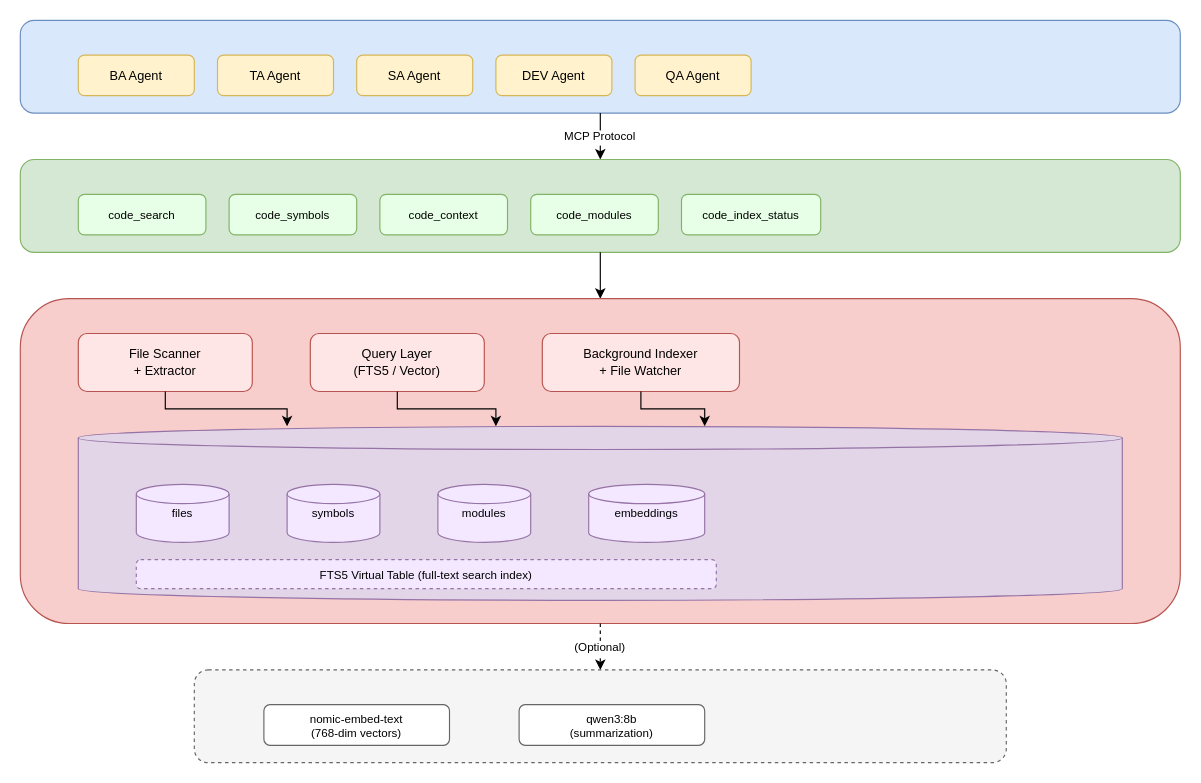
This 1201x783 diagram has some shape labels left out. Here are the shapes that lost their labels. From the top down, the box of each, then its label:
(19, 19, 1180, 113): Agent Layer
(19, 158, 1180, 252): MCP Tools Interface
(19, 298, 1180, 624): Bridge Client Core
(77, 425, 1122, 600): SQLite Database (WAL mode)
(193, 669, 1006, 763): Ollama (localhost:11434)
